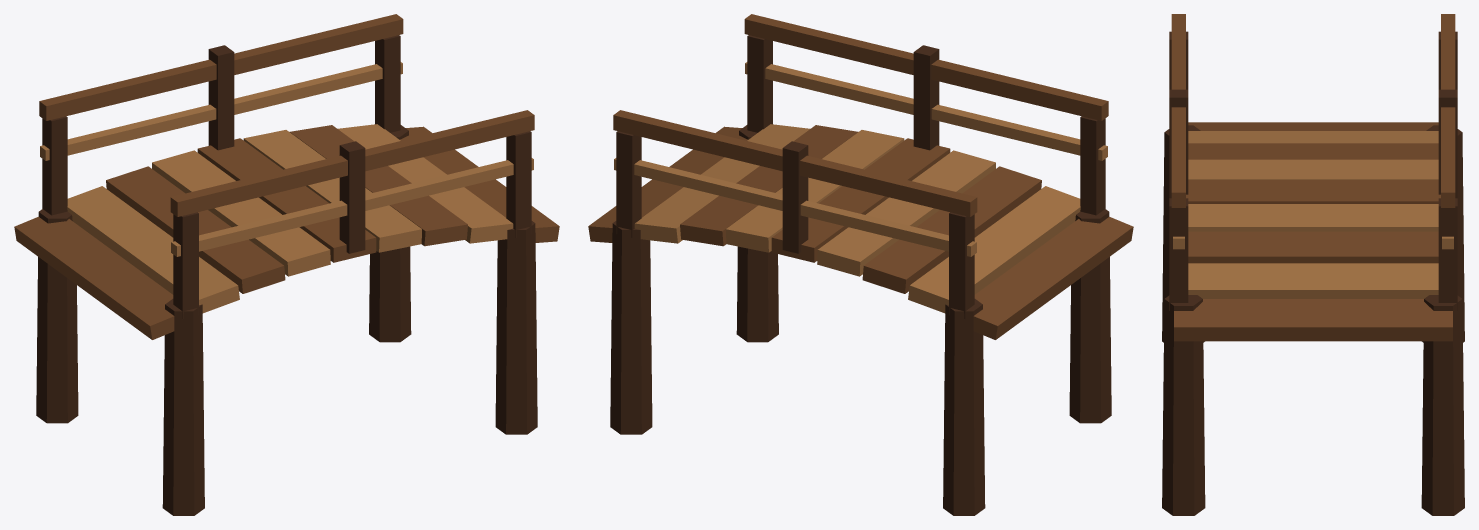
The model's file is bridge.glb.
The picture shows the model from 3 angles, left to right: view 1: azimuth 30°, elevation 25°; view 2: azimuth 150°, elevation 25°; view 3: azimuth 270°, elevation 25°; orthographic projection. The views are drawn at different scales.
Parts seen in each view (by area): view 1: piling.002, piling, bridge_plank_0, rail_top, rail_top.001, bridge_plank_1, piling.001, bridge_plank_2, bridge_plank_3, rail_mid.001, rail_mid, bridge_plank_4 (+11 smaller); view 2: piling.003, piling.001, bridge_plank_0, rail_top.001, rail_top, bridge_plank_1, piling, bridge_plank_2, bridge_plank_3, rail_mid, rail_mid.001, bridge_plank_4 (+11 smaller); view 3: bridge_plank_8, bridge_plank_7, bridge_plank_6, piling.002, piling.003, bridge_plank_5, bridge_plank_4, bridge_plank_3, bridge_plank_2, bridge_plank_1, rail_top, rail_top.001 (+9 smaller).
Part boxes in pixels (x1,y1,x2,y2): piling.002: (495,221,537,434); piling: (162,299,204,515); bridge_plank_0: (14,217,174,339); rail_top: (170,110,534,216); rail_top.001: (39,14,403,120); bridge_plank_1: (67,186,239,313); piling.001: (36,209,78,423); bridge_plank_2: (106,166,285,293); bridge_plank_3: (152,150,330,276); rail_mid.001: (40,62,402,160); rail_mid: (171,158,533,256); bridge_plank_4: (197,138,376,262); piling.003: (610,221,652,434); piling.001: (943,299,985,515); bridge_plank_0: (973,217,1133,339); rail_top.001: (613,110,977,216); rail_top: (744,14,1108,120); bridge_plank_1: (908,186,1080,313); piling: (1069,209,1111,423); bridge_plank_2: (862,166,1041,293); bridge_plank_3: (817,150,995,276); rail_mid: (745,62,1107,160); rail_mid.001: (614,158,976,256); bridge_plank_4: (771,138,950,262); bridge_plank_8: (1174,299,1452,341); bridge_plank_7: (1188,263,1438,298); bridge_plank_6: (1188,231,1438,263); piling.002: (1162,295,1205,515); piling.003: (1421,295,1464,515); bridge_plank_5: (1188,204,1438,231); bridge_plank_4: (1186,180,1440,203); bridge_plank_3: (1188,159,1438,179); bridge_plank_2: (1188,143,1438,159); bridge_plank_1: (1188,131,1438,143); rail_top: (1171,14,1185,207); rail_top.001: (1441,14,1455,207).
Bounding box in the file's own units: 2.02 × 1.52 × 1.26.
